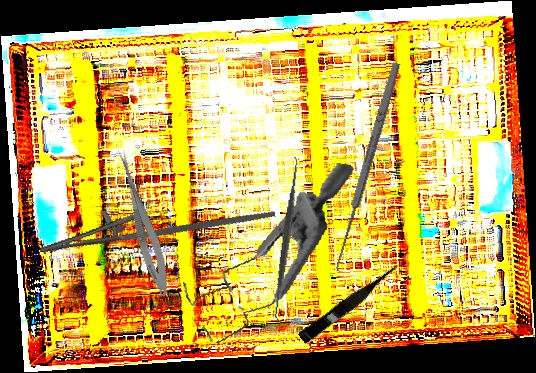Hook Surgical: (329, 61, 411, 275)
Micro Scissor: (108, 146, 176, 299), (297, 259, 406, 347)
Needle Holder: (33, 164, 277, 283)
Spatula Surgical: (265, 156, 308, 323)
Speculum: (172, 138, 356, 363)
